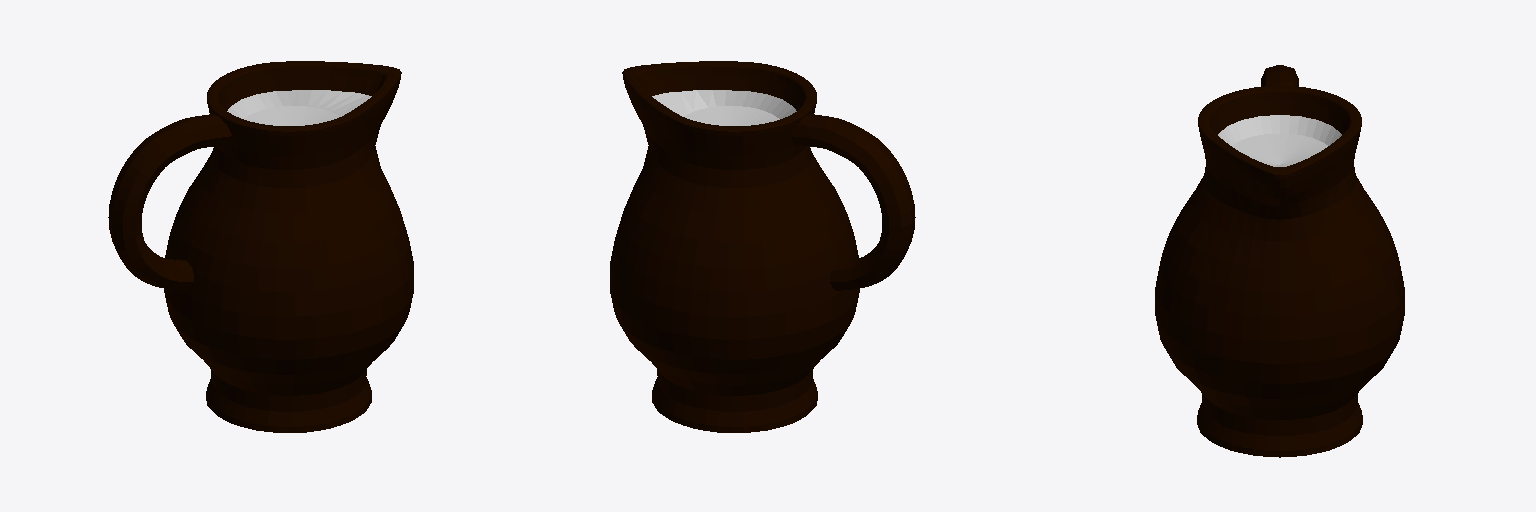
Rendered from MilkJar01.obj.
3 renders of one model, left to right at view 1: azimuth 30°, elevation 25°; view 2: azimuth 150°, elevation 25°; view 3: azimuth 270°, elevation 25°, orthographic.
Visible parts, largest first — view 1: MilkJar01_Cylinder.003; view 2: MilkJar01_Cylinder.003; view 3: MilkJar01_Cylinder.003.
Part boxes in pixels (x1,y1,x2,y2): MilkJar01_Cylinder.003: (108,61,413,432); MilkJar01_Cylinder.003: (610,61,915,432); MilkJar01_Cylinder.003: (1155,65,1404,457).
Size of the model in its own units: 7.92 by 8 by 5.97.